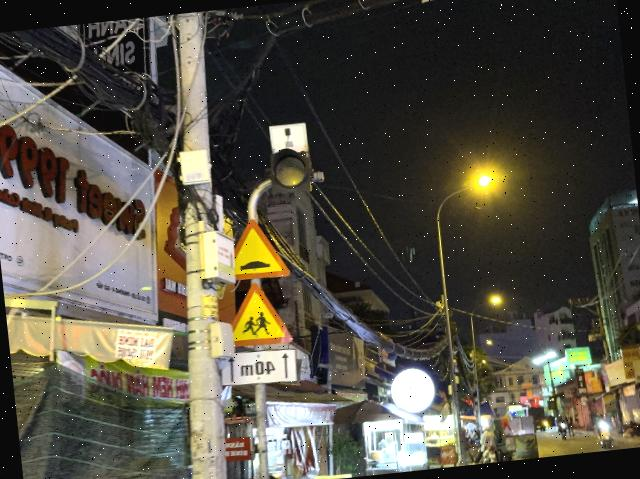duong-co-go-giam-toc: (230, 215, 290, 280)
tre-em-qua-duong: (228, 279, 293, 348)
